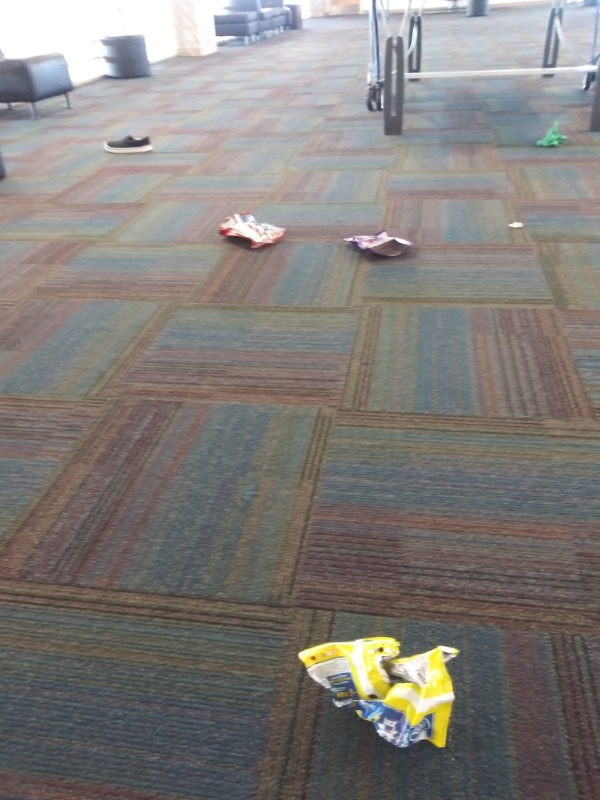bag: (291, 628, 463, 759), (211, 209, 295, 253), (339, 227, 419, 262)
